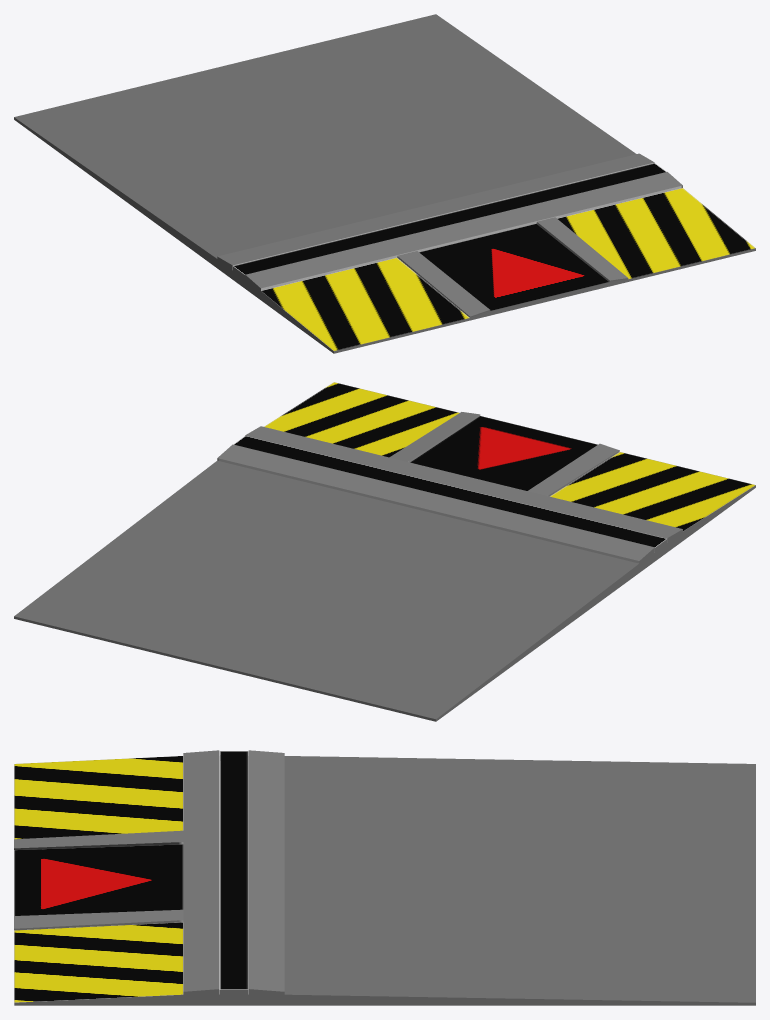
Rendered from speedbooster.fbx.
3 views of the same model, one above another, from view 1: azimuth 30°, elevation 25°; view 2: azimuth 150°, elevation 25°; view 3: azimuth 270°, elevation 25° (orthographic). The views are drawn at different scales.
Parts seen in each view (by area): view 1: pCube1; view 2: pCube1; view 3: pCube1.
Part boxes in pixels (left/top/right/bottom): pCube1: left=14, top=14, right=755, bottom=353; pCube1: left=14, top=382, right=755, bottom=721; pCube1: left=14, top=750, right=755, bottom=1005.
Size of the model in its own units: 0.9903 by 0.0321 by 1.3.
